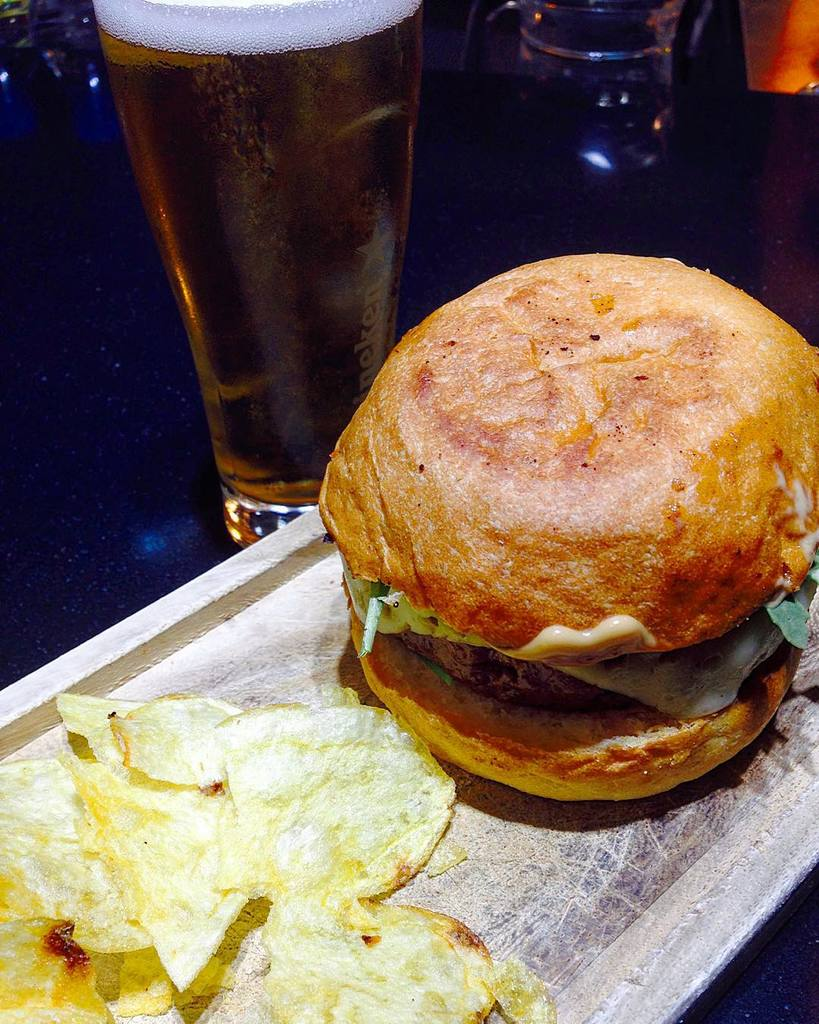Hamburger: (320, 251, 818, 800)
